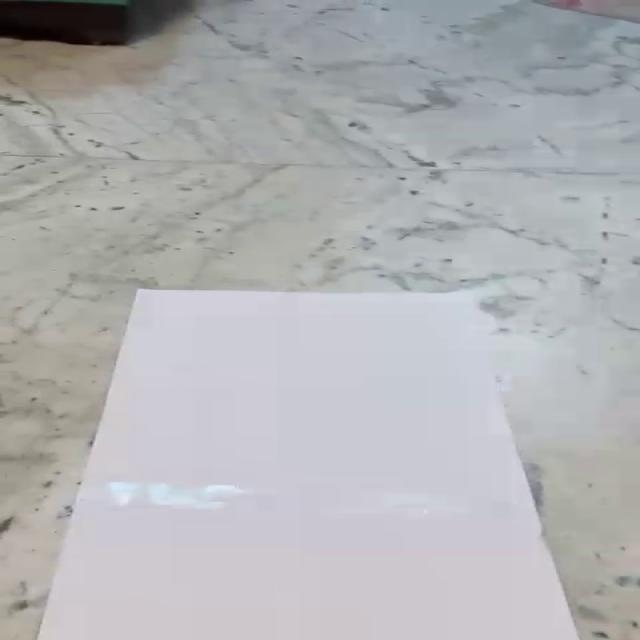road: (36, 289, 581, 640)
